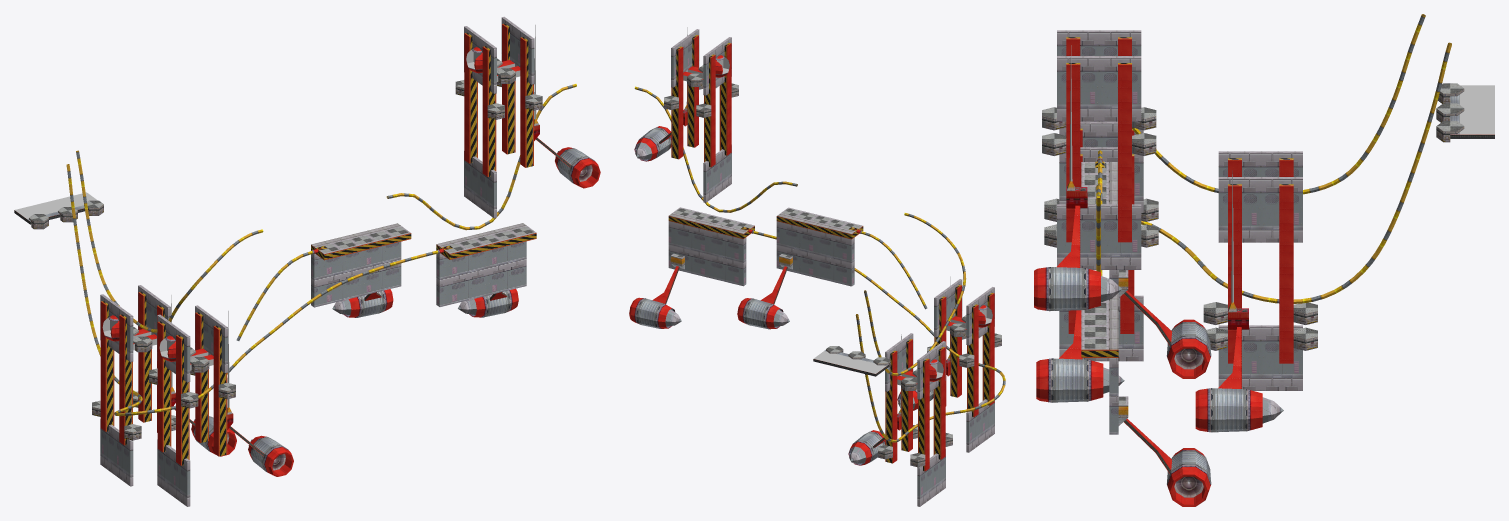
Rendered from 2PEgg_fleet7.obj.
3 views of the same model, side by side, from view 1: azimuth 30°, elevation 25°; view 2: azimuth 150°, elevation 25°; view 3: azimuth 270°, elevation 25° (orthographic). The views are drawn at different scales.
Visible parts, largest first — view 1: obj2, obj1; view 2: obj2, obj1, Object_2; view 3: obj2, obj1, Object_2.
Part boxes in pixels (x1=…): obj2: x1=14, y1=16, x2=600, y2=506; obj1: x1=311, y1=223, x2=536, y2=254; obj2: x1=629, y1=27, x2=1005, y2=506; obj1: x1=669, y1=207, x2=862, y2=234; Object_2: x1=817, y1=352, x2=882, y2=372; obj2: x1=1034, y1=14, x2=1494, y2=506; obj1: x1=1081, y1=162, x2=1118, y2=349; Object_2: x1=1464, y1=87, x2=1490, y2=132.
Size of the model in its own units: 1537 by 1403 by 984.
